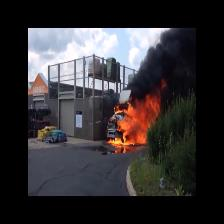fire: (115, 95, 160, 147)
smoke: (132, 32, 192, 94)
